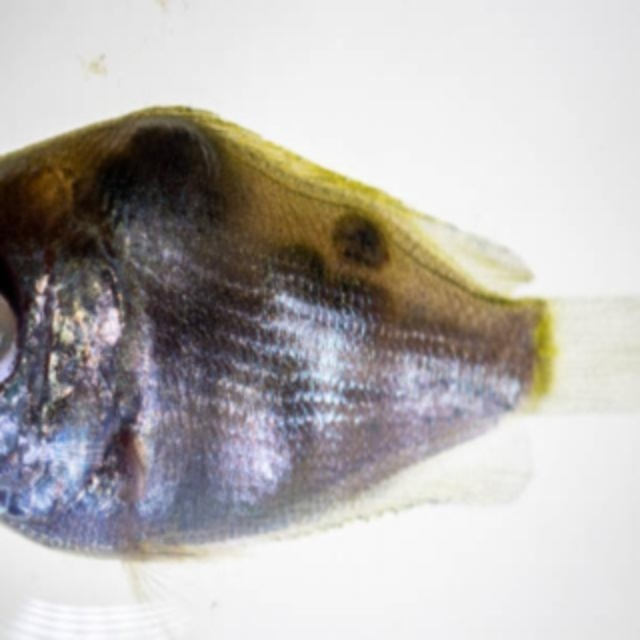EUS Disease: (0, 108, 640, 570), (122, 113, 230, 277), (292, 165, 410, 290)
